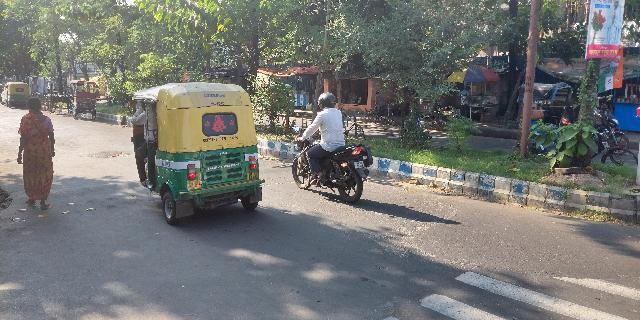Autorickshaw: (128, 79, 268, 230), (5, 79, 28, 110)
Motorbike: (287, 85, 372, 206)
Rickshaw: (66, 77, 99, 125)
